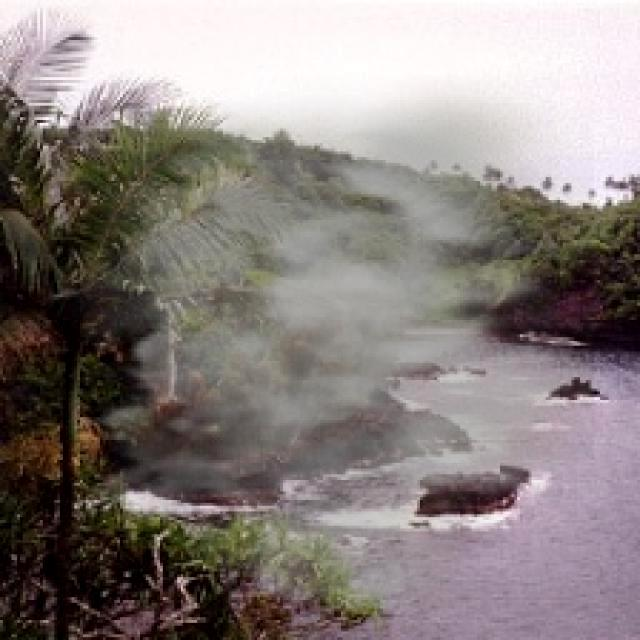no_helmet: (32, 74, 595, 609)
